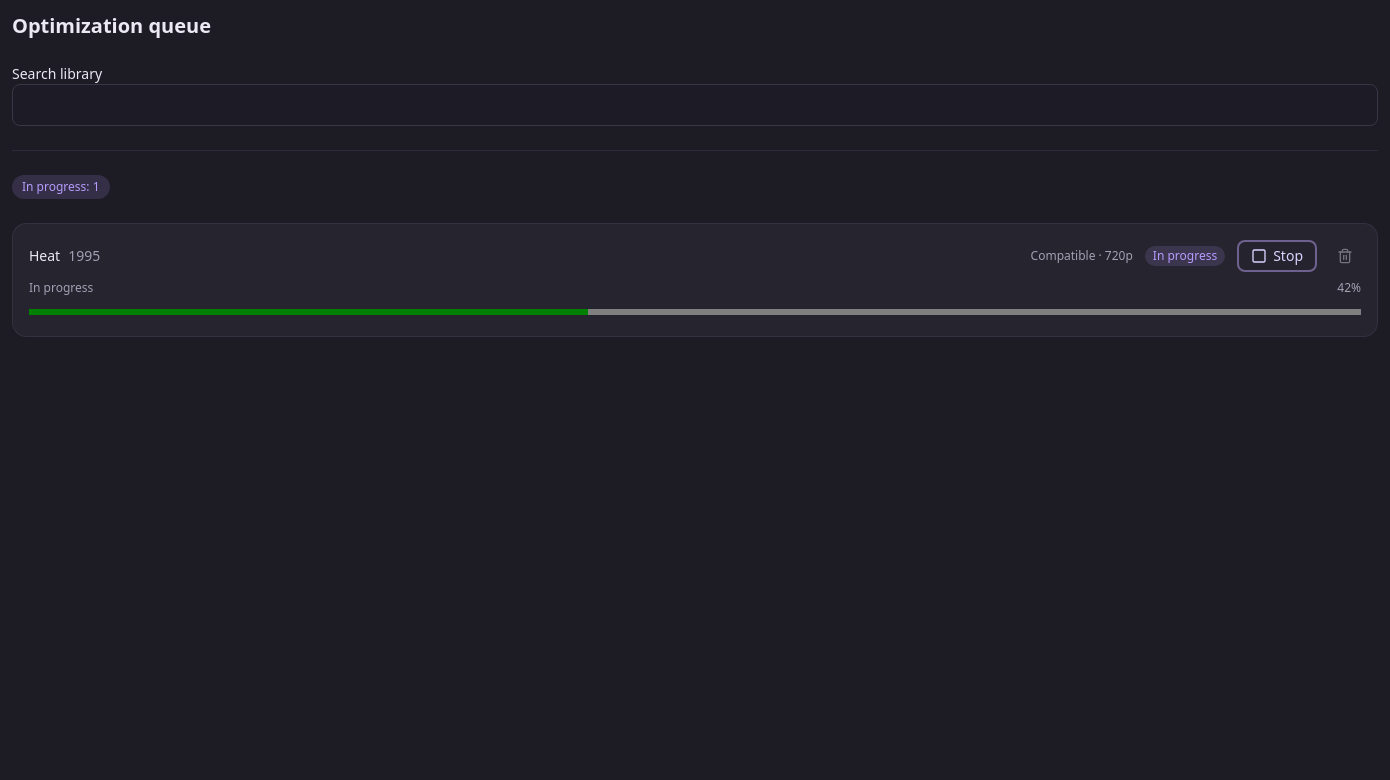
Test case: OptimizationPage › shows the state of a chosen file only once, in the queue, with stop and remove there
Type "Heat" into the search field labelled "Search library". click: {"x": 695, "y": 105}
box: [12,84,1378,126]
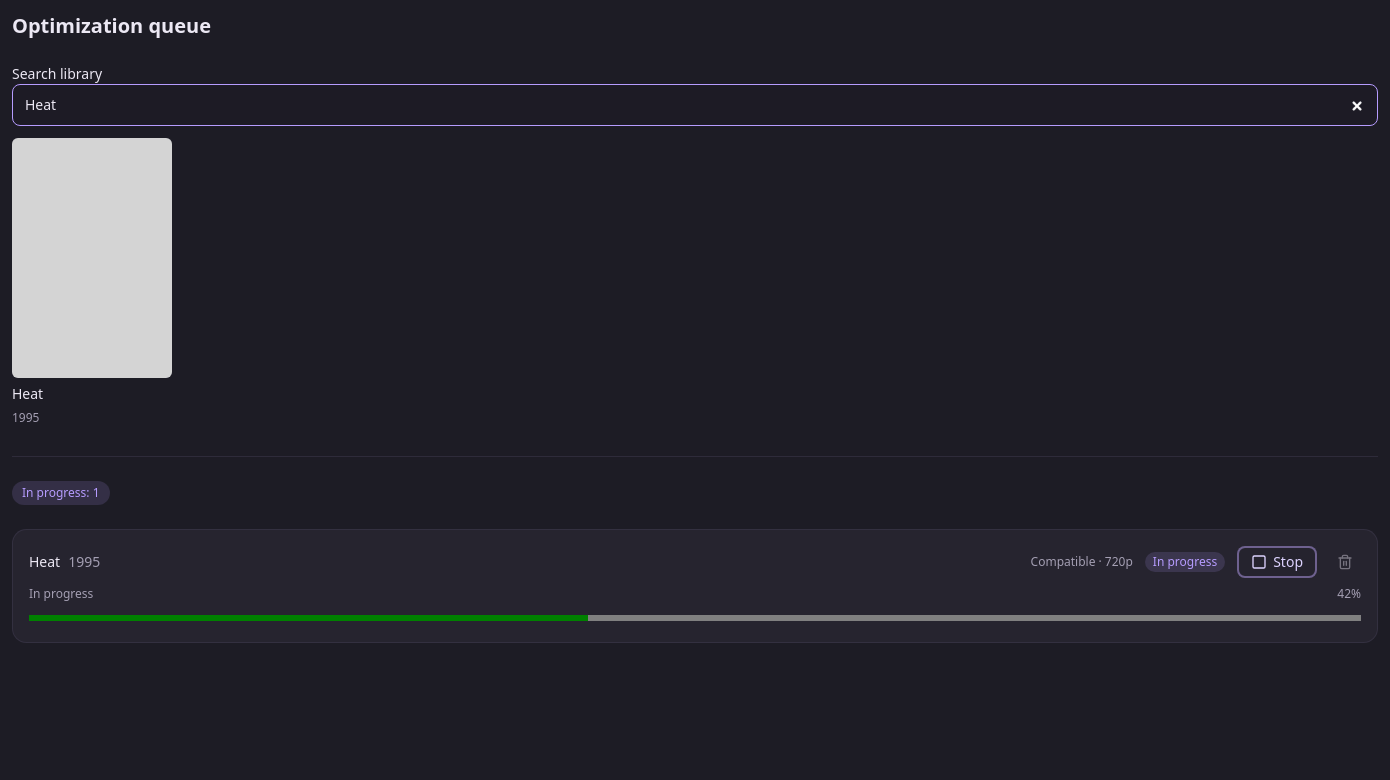
Click the button "Heat 1995". click: {"x": 92, "y": 282}
box: [12,138,172,426]
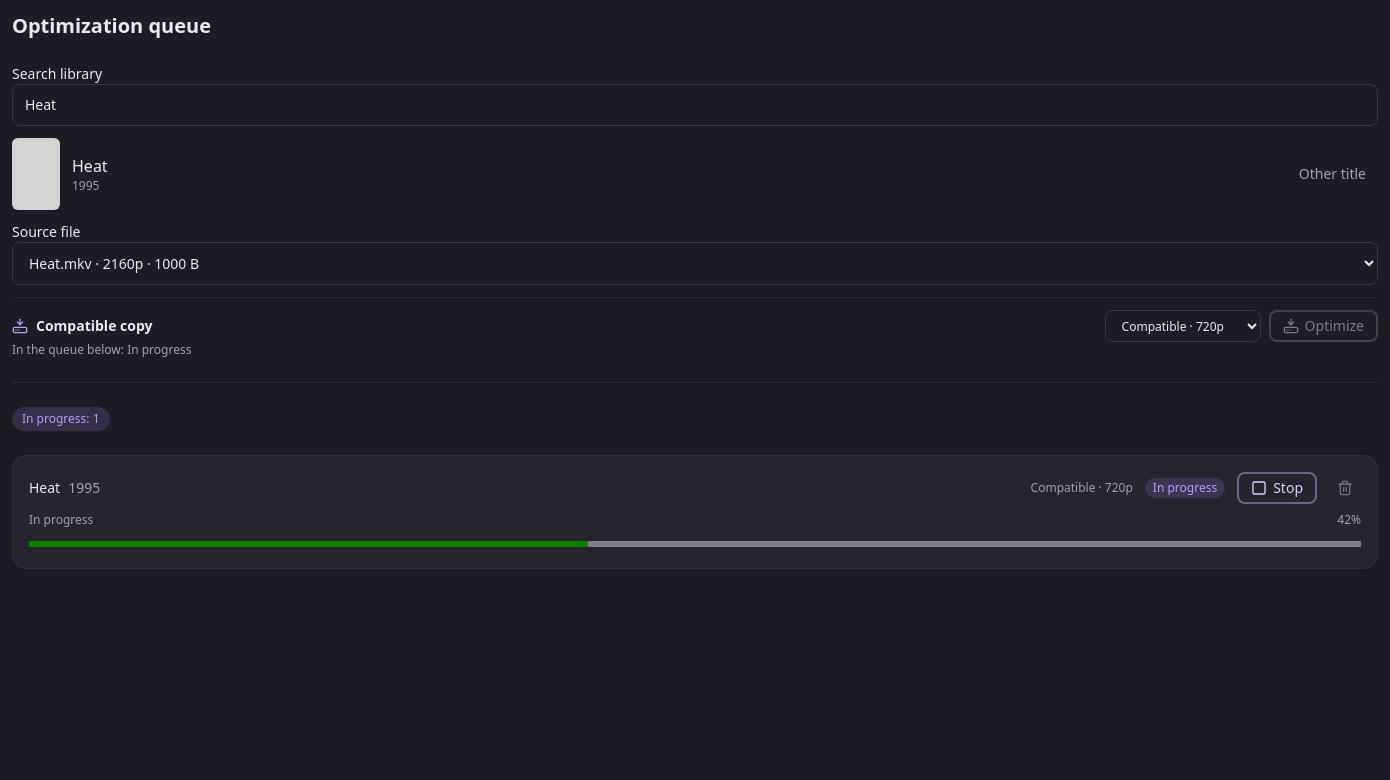
Expected: the text "In the queue below: In progress" is shown, [12,341,192,358]
Expected: the button "Optimize" is disabled, [1269,310,1378,342]
Expected: the number of buttons "Stop" is 1, [1237,472,1317,504]
